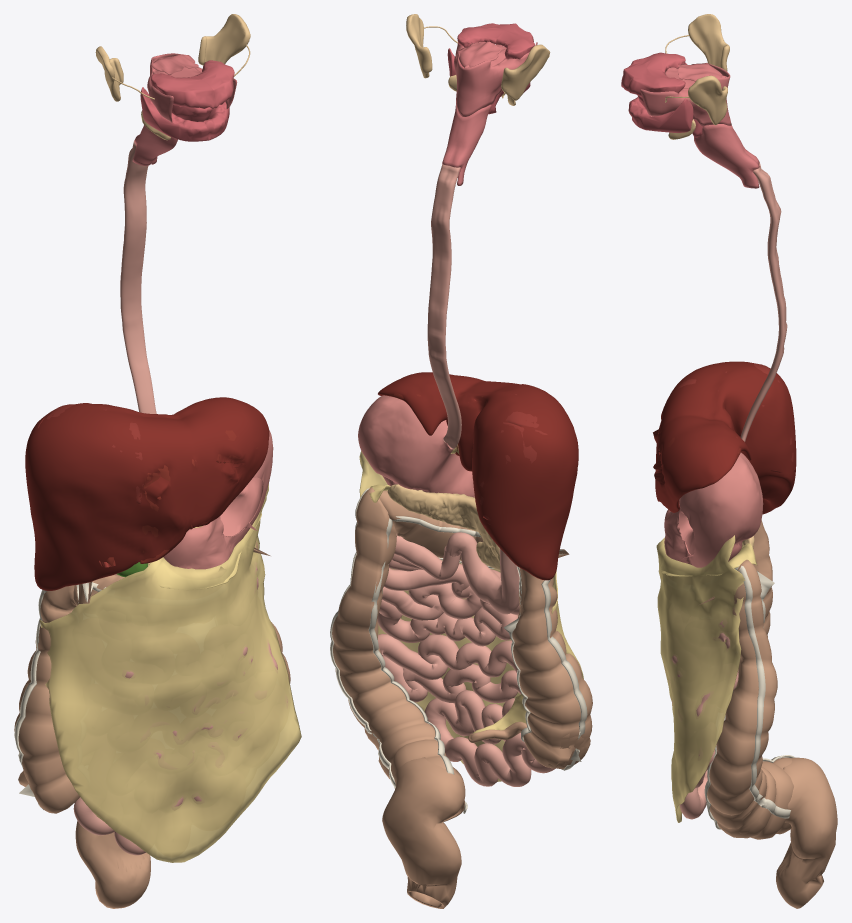
Rendered from female-digestive.glb.
3 views of the same model, side by side, from view 1: azimuth 30°, elevation 25°; view 2: azimuth 150°, elevation 25°; view 3: azimuth 270°, elevation 25° (orthographic). The views are drawn at different scales.
Visible parts, largest first — view 1: Greater_omentum, Liver, Ascending_colon, Oesophagus, Gingiva, Sigmoid_colon, Stomach, Jejunum, Parotid_gland_L, Mucosa_of_stomach, Mesocolic_taenia, Laryngopharynx (+4 smaller); view 2: Jejunum, Liver, Descending_colon, Ascending_colon, Sigmoid_colon, Stomach, Oesophagus, Pancreas, Duodenum, Free_taenia, Oropharynx, Mesocolic_taenia (+9 smaller); view 3: Liver, Greater_omentum, Descending_colon, Stomach, Sigmoid_colon, Gingiva, Oesophagus, Laryngopharynx, Mesocolic_taenia, Oropharynx, Parotid_gland_R, Jejunum (+5 smaller).
Boxes of the visible parts, x1,y1,x2,y2 form: Greater_omentum: (39, 483, 301, 862); Liver: (25, 397, 269, 590); Ascending_colon: (14, 584, 91, 813); Oesophagus: (120, 140, 156, 413); Gingiva: (140, 60, 234, 141); Sigmoid_colon: (75, 821, 150, 908); Stomach: (163, 430, 273, 569); Jejunum: (73, 562, 287, 855); Parotid_gland_L: (198, 14, 250, 65); Mucosa_of_stomach: (220, 477, 263, 536); Mesocolic_taenia: (14, 582, 105, 809); Laryngopharynx: (132, 125, 177, 165); Jejunum: (377, 534, 555, 786); Liver: (378, 372, 578, 580); Descending_colon: (332, 487, 464, 821); Ascending_colon: (512, 549, 592, 769); Sigmoid_colon: (382, 757, 465, 908); Stomach: (358, 395, 474, 497); Oesophagus: (427, 164, 461, 449); Pancreas: (387, 484, 500, 570); Duodenum: (445, 532, 519, 614); Free_taenia: (368, 516, 531, 774); Oropharynx: (454, 42, 537, 116); Mesocolic_taenia: (330, 488, 587, 788); Liver: (653, 361, 796, 514); Greater_omentum: (656, 518, 744, 822); Descending_colon: (699, 559, 793, 839); Stomach: (664, 452, 763, 567); Sigmoid_colon: (776, 757, 837, 908); Gingiva: (621, 52, 693, 132); Oesophagus: (740, 162, 787, 441); Laryngopharynx: (694, 124, 759, 188); Mesocolic_taenia: (734, 565, 790, 818); Oropharynx: (640, 63, 731, 126); Parotid_gland_R: (688, 14, 729, 71); Jejunum: (665, 619, 738, 819).
Bounding box in the file's own units: 0.2128 × 0.6788 × 0.1545.
